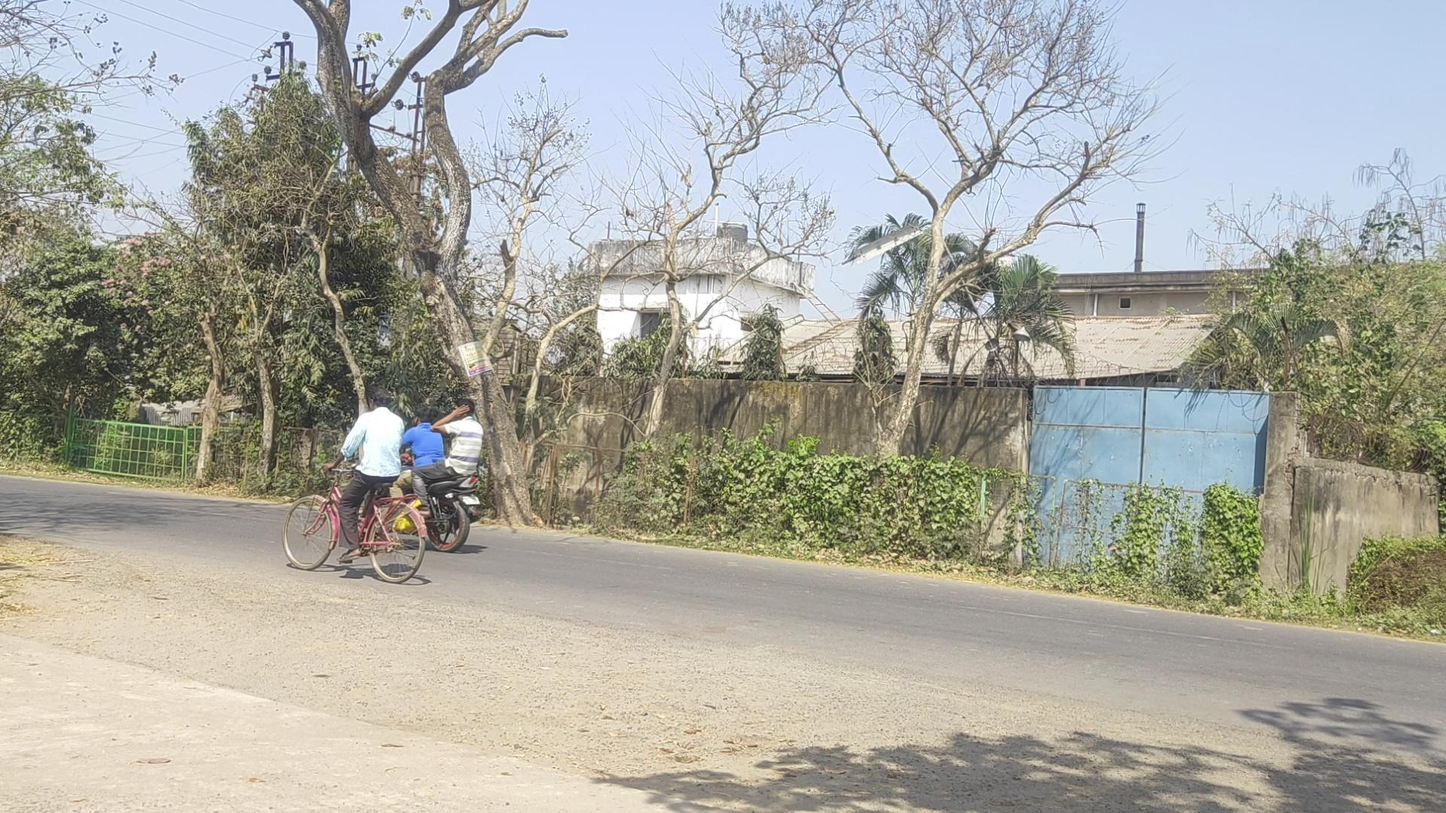bike: (282, 391, 428, 583), (355, 400, 484, 550)
